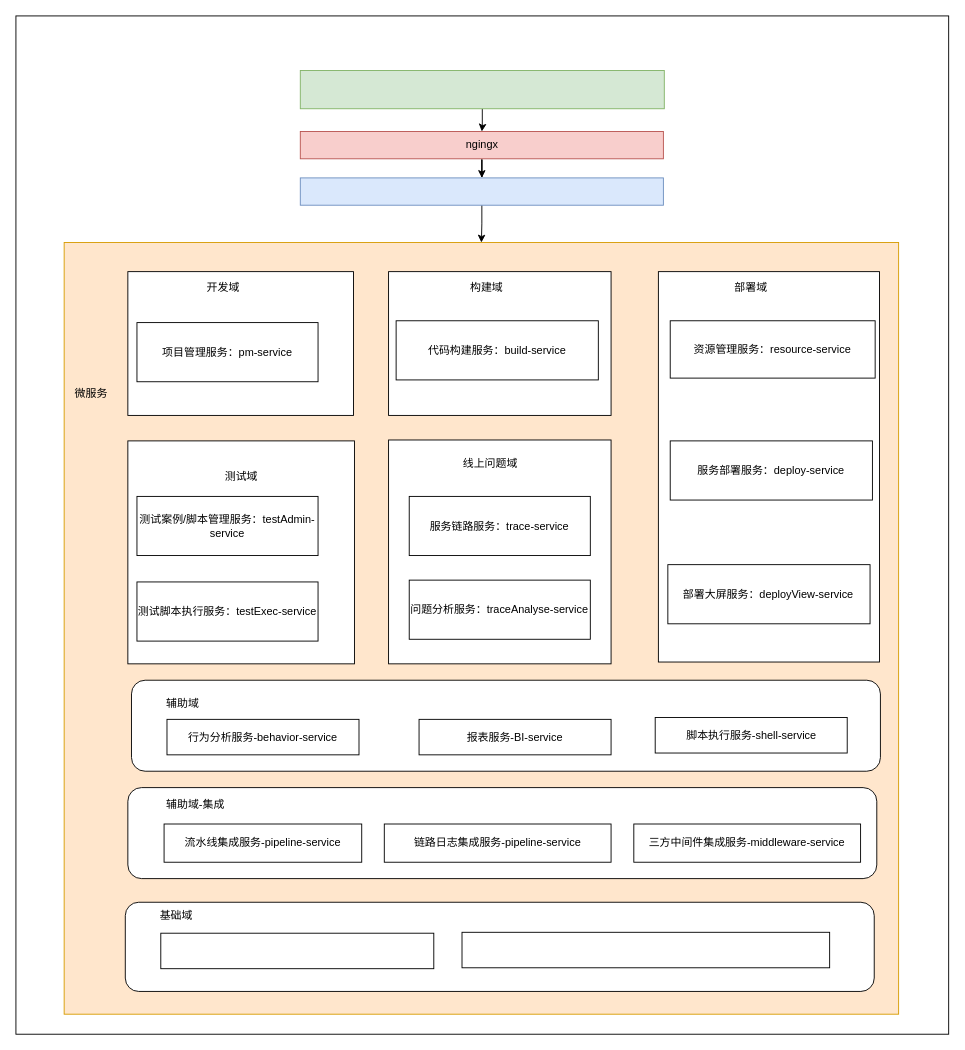
Image size: 965x1050. Some labels were removed from this diagram. The centre of each missing label's shape, as x and y in pixels:
PC: point 481,89
前置网关: point 481,191
权限服务（角色，权限，菜单，统一认证）- authService: point 645,949
用户服务（用户，组织）- userService: point 297,950
